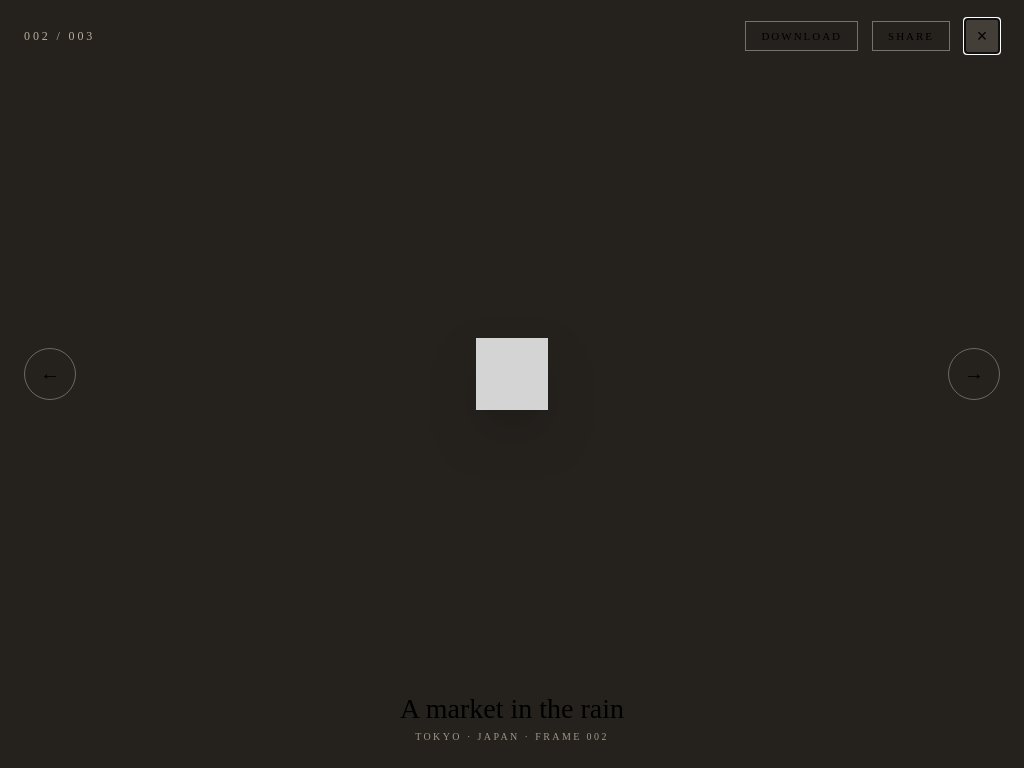
Test: Lightbox sharing › says so rather than staying silent when neither route is available
Click the button "Share": {"x": 911, "y": 36} [872,21,950,51]
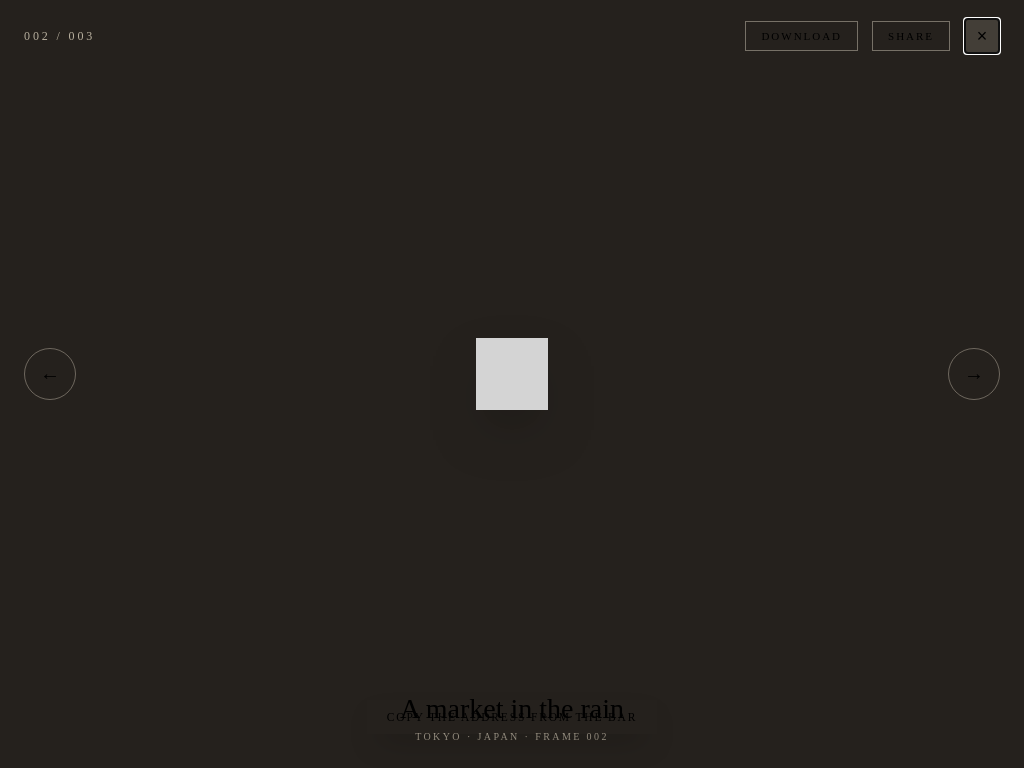
Result: the message "Copy the address from the bar" is shown at [367,700,657,734]
